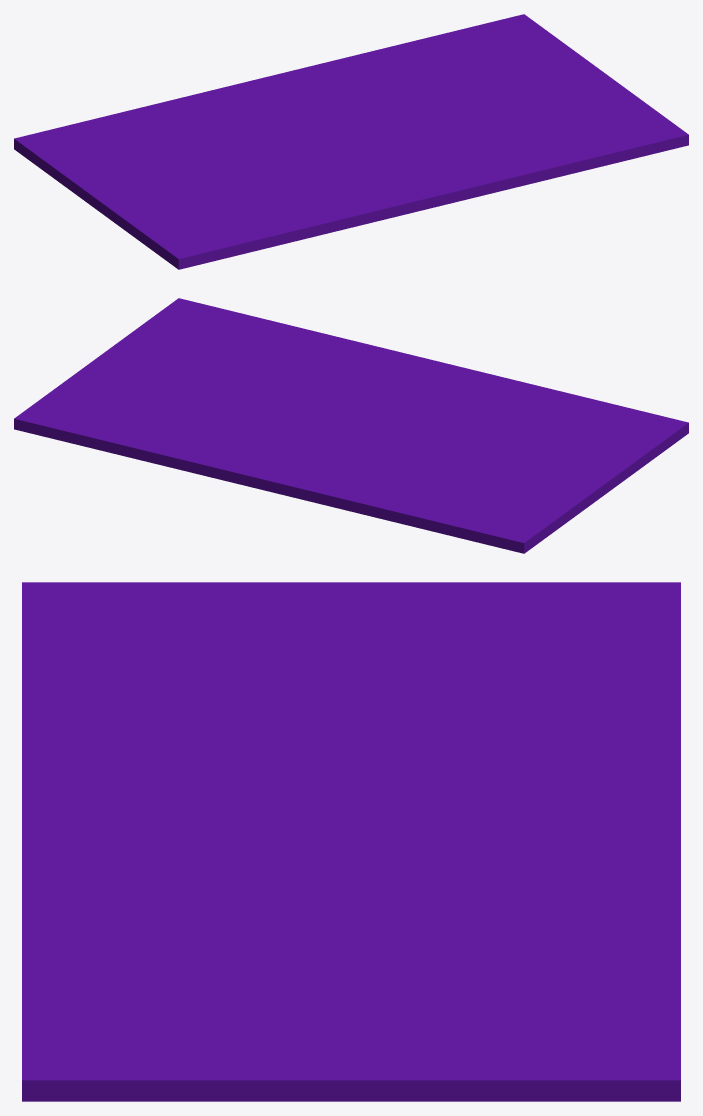
The model's file is Exhibition_19.007_chunks.fbx.
3 renders of one model, top to bottom at view 1: azimuth 30°, elevation 25°; view 2: azimuth 150°, elevation 25°; view 3: azimuth 270°, elevation 25°, orthographic. The views are drawn at different scales.
Parts seen in each view (by area): view 1: Exhibition_19.007_1, Exhibition_19.007_2, Exhibition_19.007_6, Exhibition_19.007_0, Exhibition_19.007_4, Exhibition_19.007_5, Exhibition_19.007_3; view 2: Exhibition_19.007_1, Exhibition_19.007_2, Exhibition_19.007_6, Exhibition_19.007_4, Exhibition_19.007_0, Exhibition_19.007_5, Exhibition_19.007_3; view 3: Exhibition_19.007_1, Exhibition_19.007_2, Exhibition_19.007_6, Exhibition_19.007_0, Exhibition_19.007_4, Exhibition_19.007_5, Exhibition_19.007_3.
Part boxes in pixels (x1,y1,x2,y2): Exhibition_19.007_1: [354, 14, 688, 201]; Exhibition_19.007_2: [96, 135, 463, 269]; Exhibition_19.007_6: [204, 30, 458, 119]; Exhibition_19.007_0: [26, 141, 299, 222]; Exhibition_19.007_4: [14, 92, 229, 157]; Exhibition_19.007_5: [245, 93, 395, 141]; Exhibition_19.007_3: [117, 118, 280, 148]; Exhibition_19.007_1: [14, 298, 402, 446]; Exhibition_19.007_2: [348, 353, 688, 483]; Exhibition_19.007_6: [80, 426, 373, 505]; Exhibition_19.007_4: [326, 474, 542, 553]; Exhibition_19.007_0: [387, 437, 624, 544]; Exhibition_19.007_5: [240, 420, 397, 467]; Exhibition_19.007_3: [370, 444, 493, 500]; Exhibition_19.007_1: [22, 834, 680, 1101]; Exhibition_19.007_2: [22, 582, 382, 860]; Exhibition_19.007_6: [486, 761, 680, 1015]; Exhibition_19.007_0: [353, 582, 606, 789]; Exhibition_19.007_4: [537, 582, 680, 767]; Exhibition_19.007_5: [353, 770, 526, 907]; Exhibition_19.007_3: [400, 647, 549, 774].
Size of the model in its own units: 642 by 12.85 by 359.
